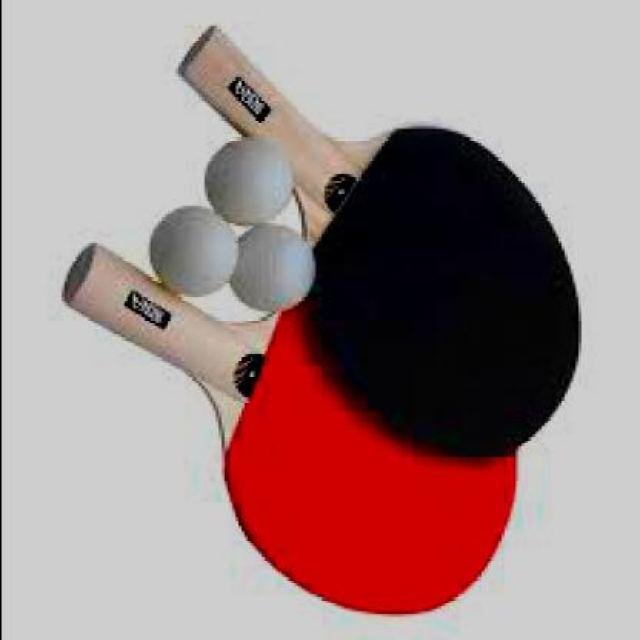table_tennis_racket: (300, 125, 589, 464), (222, 310, 523, 632)
